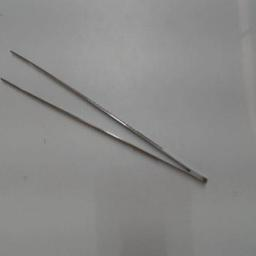DeBakey Dissector: (2, 42, 216, 190)
